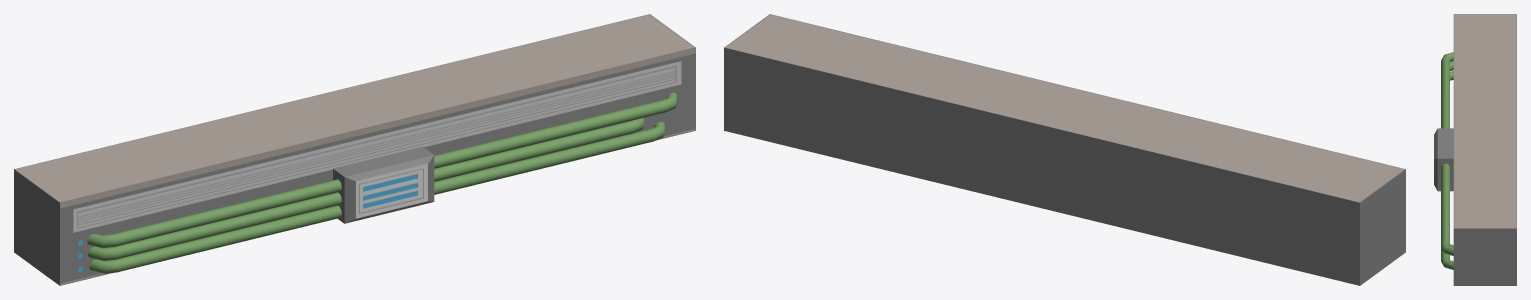
File: scaffold.fbx
3 views of the same model, side by side, from view 1: azimuth 30°, elevation 25°; view 2: azimuth 150°, elevation 25°; view 3: azimuth 270°, elevation 25° (orthographic). The views are drawn at different scales.
Parts seen in each view (by area): view 1: pCube1, pCube2, pCylinder7, pCylinder9, pCylinder8, pCylinder4, pCylinder6, pCylinder5; view 2: pCube1; view 3: pCube1, pCube2, pCylinder4, pCylinder7, pCylinder6.
Part boxes in pixels (bbox=[...]): pCube1: bbox=[14, 14, 695, 285]; pCube2: bbox=[333, 146, 434, 223]; pCylinder7: bbox=[87, 179, 341, 248]; pCylinder9: bbox=[89, 205, 341, 273]; pCylinder8: bbox=[88, 192, 341, 260]; pCylinder4: bbox=[434, 92, 677, 168]; pCylinder6: bbox=[434, 121, 665, 194]; pCylinder5: bbox=[434, 117, 645, 181]; pCube1: bbox=[724, 14, 1405, 285]; pCube1: bbox=[1453, 14, 1516, 285]; pCube2: bbox=[1434, 128, 1453, 191]; pCylinder4: bbox=[1441, 163, 1453, 255]; pCylinder7: bbox=[1441, 52, 1453, 128]; pCylinder6: bbox=[1441, 248, 1453, 269].
Bounding box in the file's own units: 16 × 2 × 2.62.
